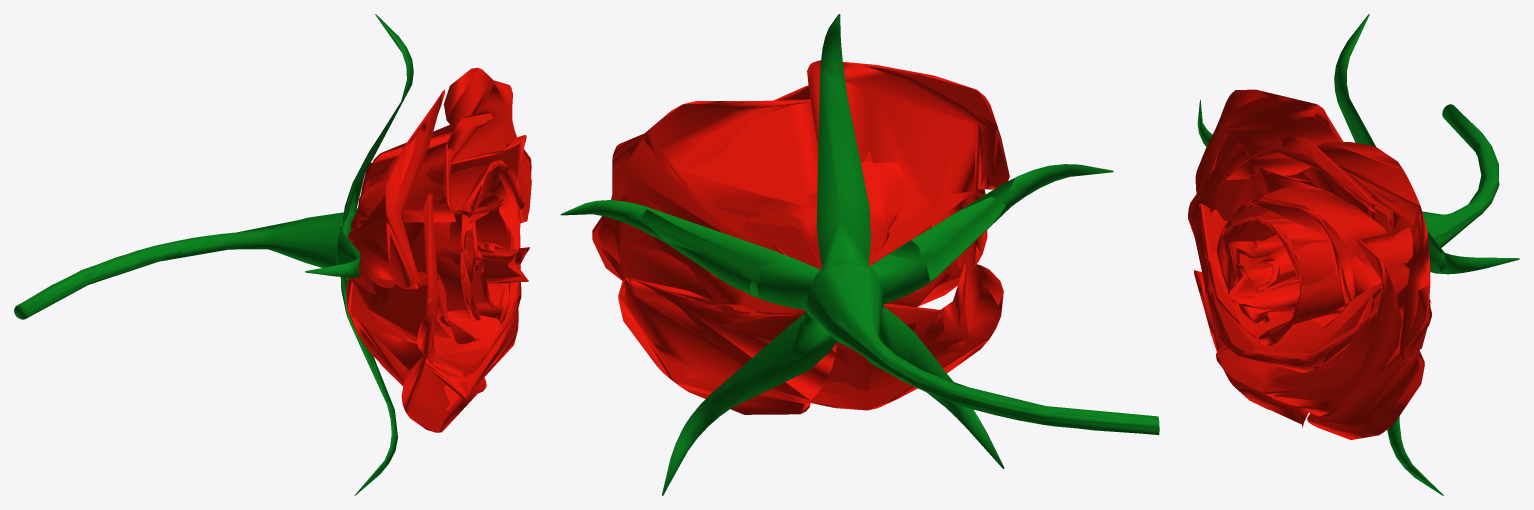
Rendered from rose.glb.
3 renders of one model, left to right at view 1: azimuth 30°, elevation 25°; view 2: azimuth 150°, elevation 25°; view 3: azimuth 270°, elevation 25°, orthographic. The views are drawn at different scales.
Parts seen in each view (by area): view 1: Simple_GP_Layer, Circle; view 2: Simple_GP_Layer, Circle; view 3: Simple_GP_Layer, Circle.
Part boxes in pixels (x1,y1,x2,y2): Simple_GP_Layer: (346,67,531,432); Circle: (14,14,413,495); Simple_GP_Layer: (592,60,1009,414); Circle: (560,14,1159,495); Simple_GP_Layer: (1188,89,1431,439); Circle: (1197,14,1519,495).
Size of the model in its own units: 1.6 by 1.27 by 0.8984.
